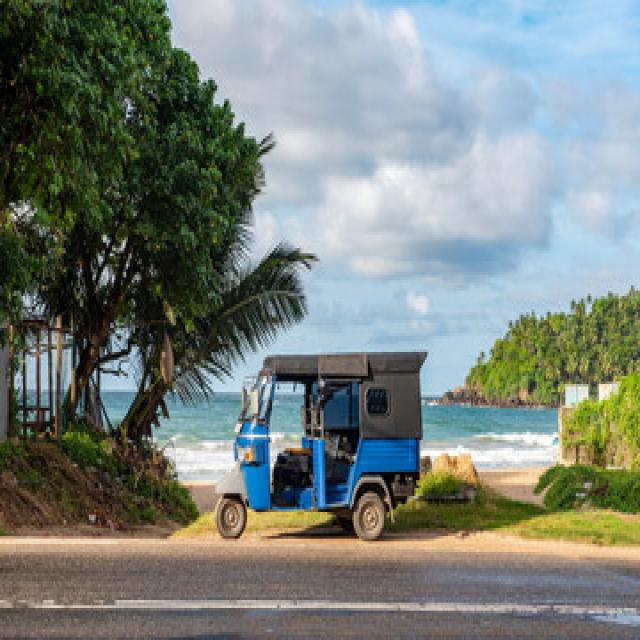three wheeler: (215, 352, 425, 539)
